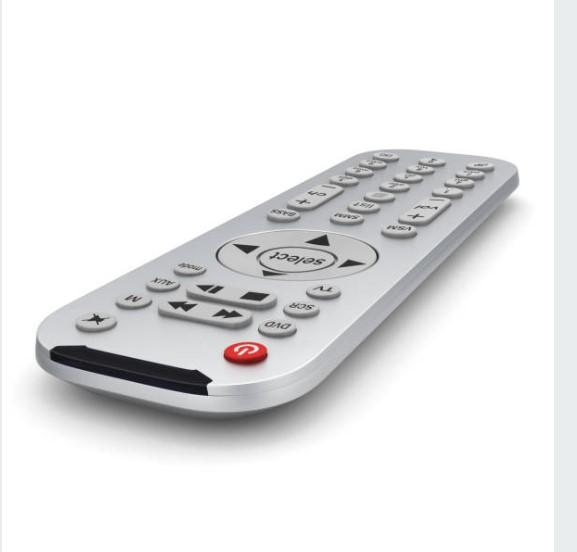Remote control: (35, 148, 521, 421)
